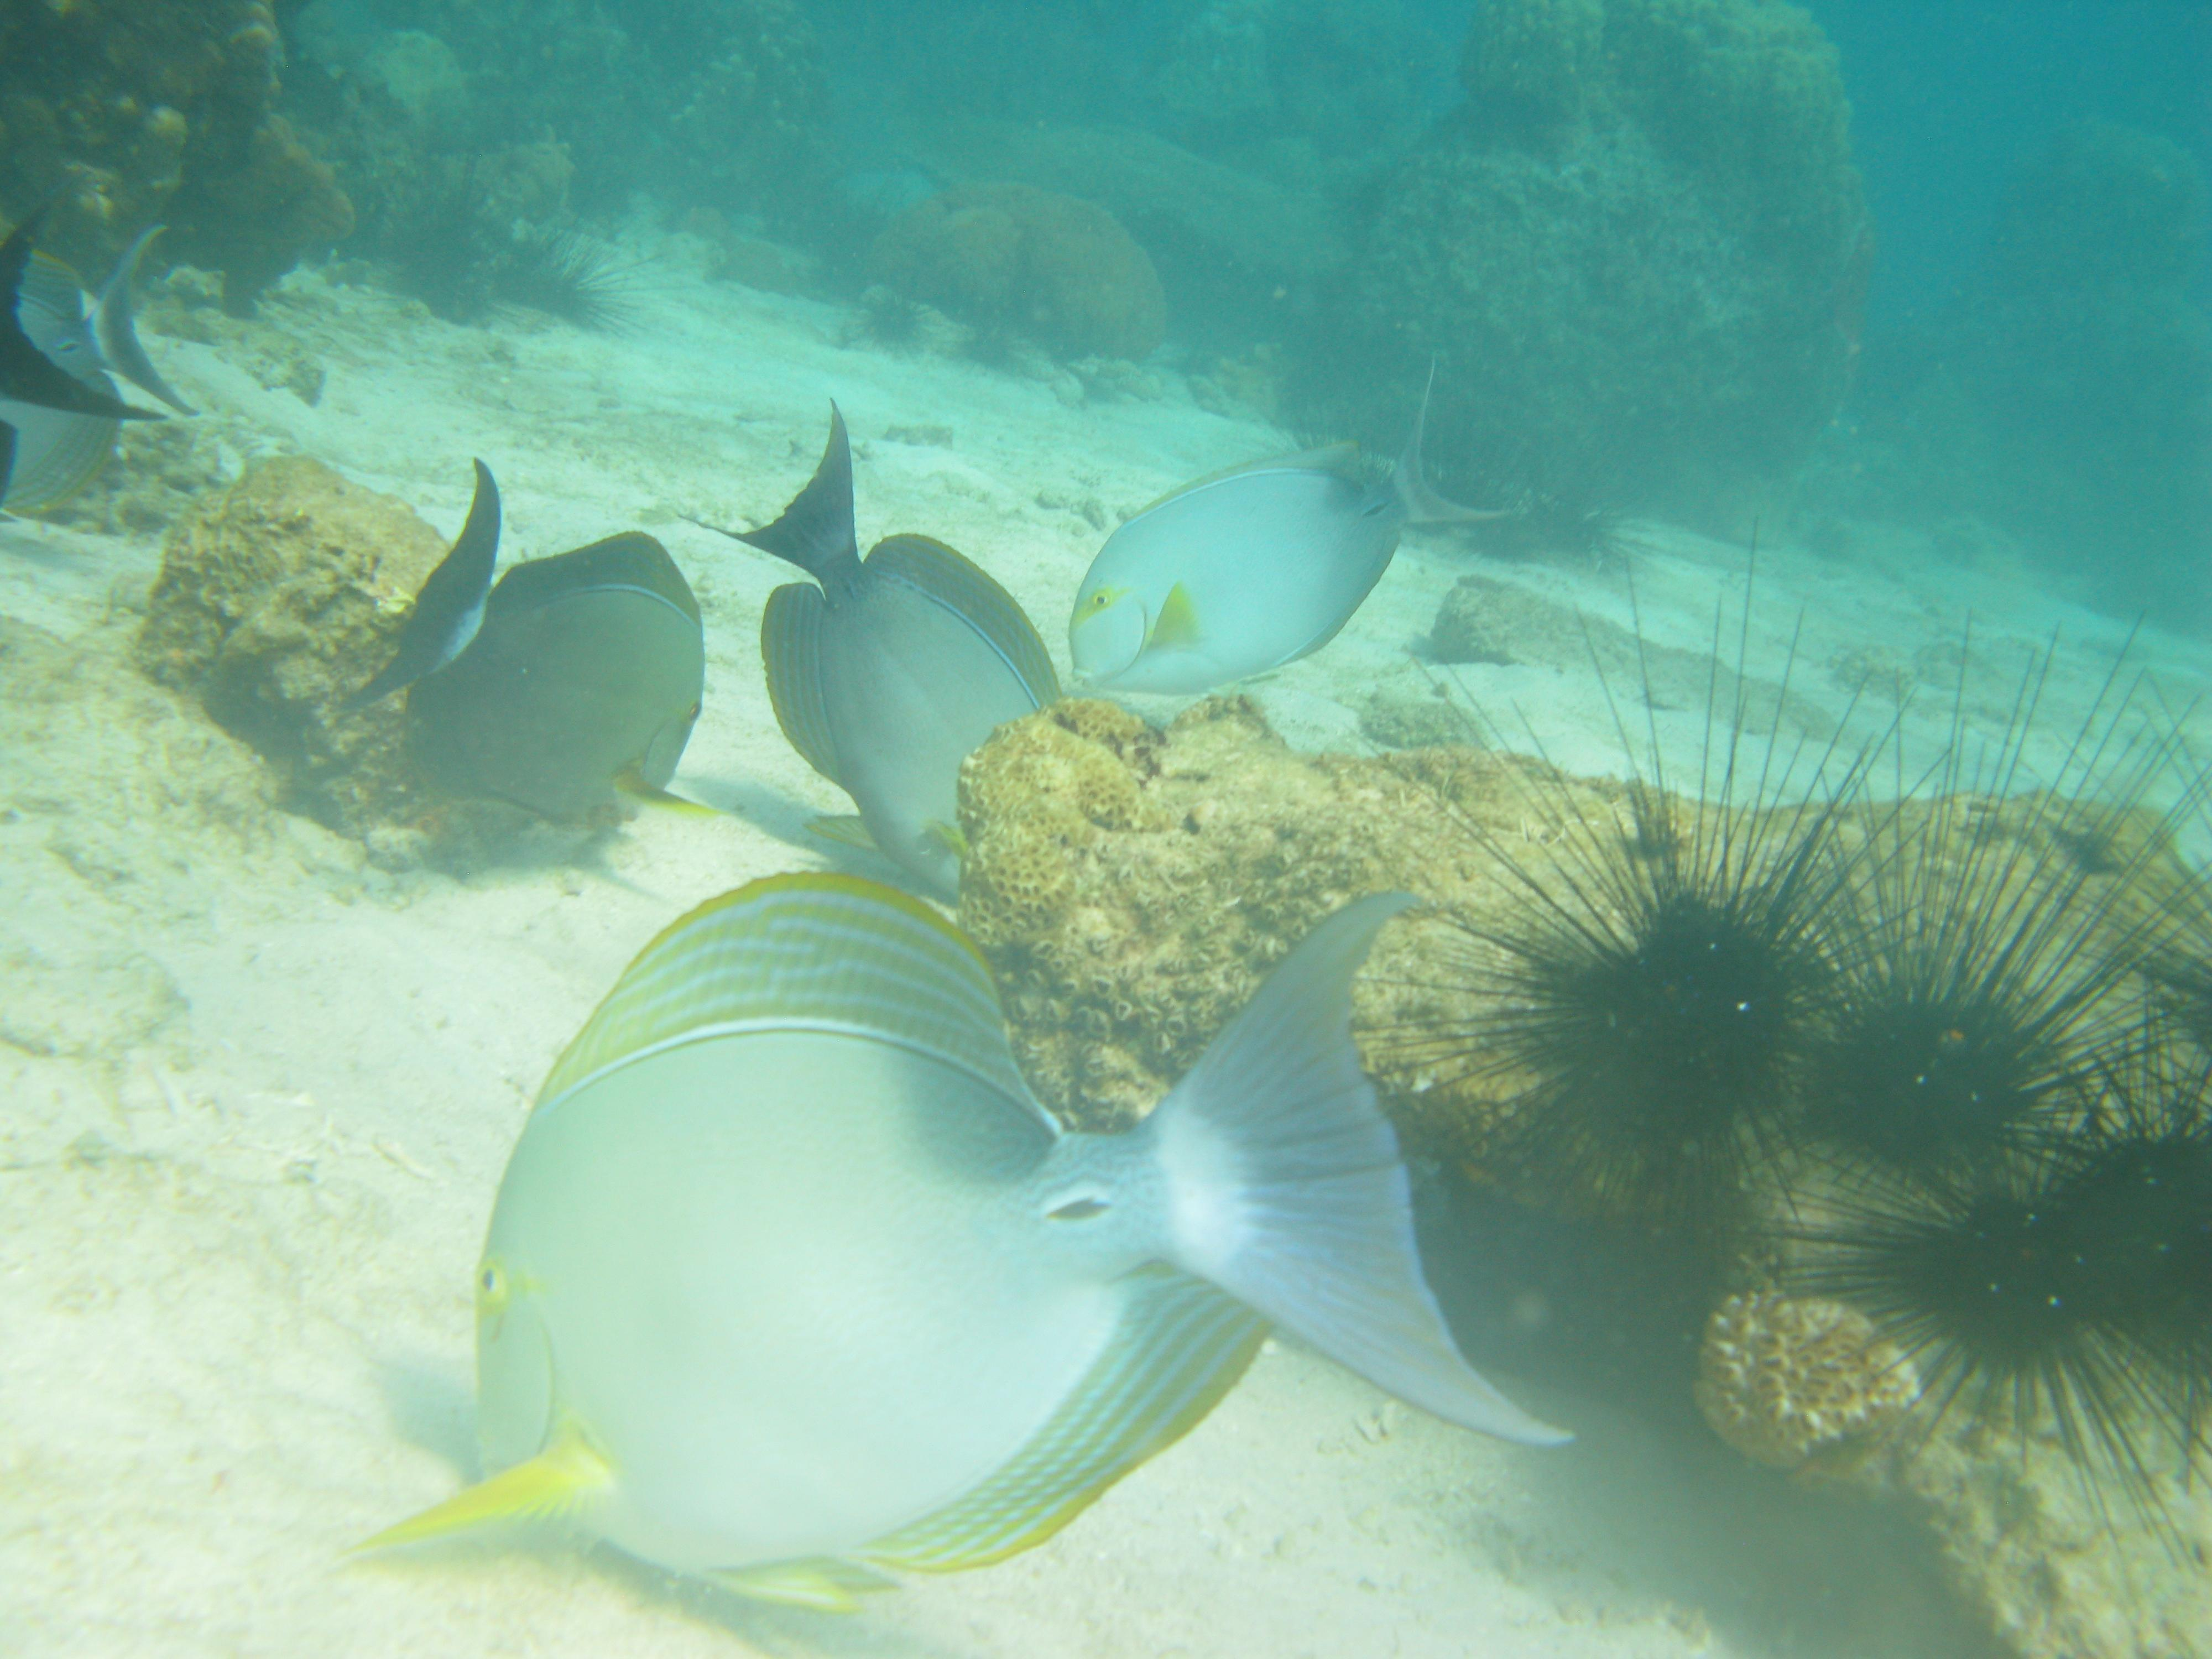Fish: (376, 870, 1587, 1659)
